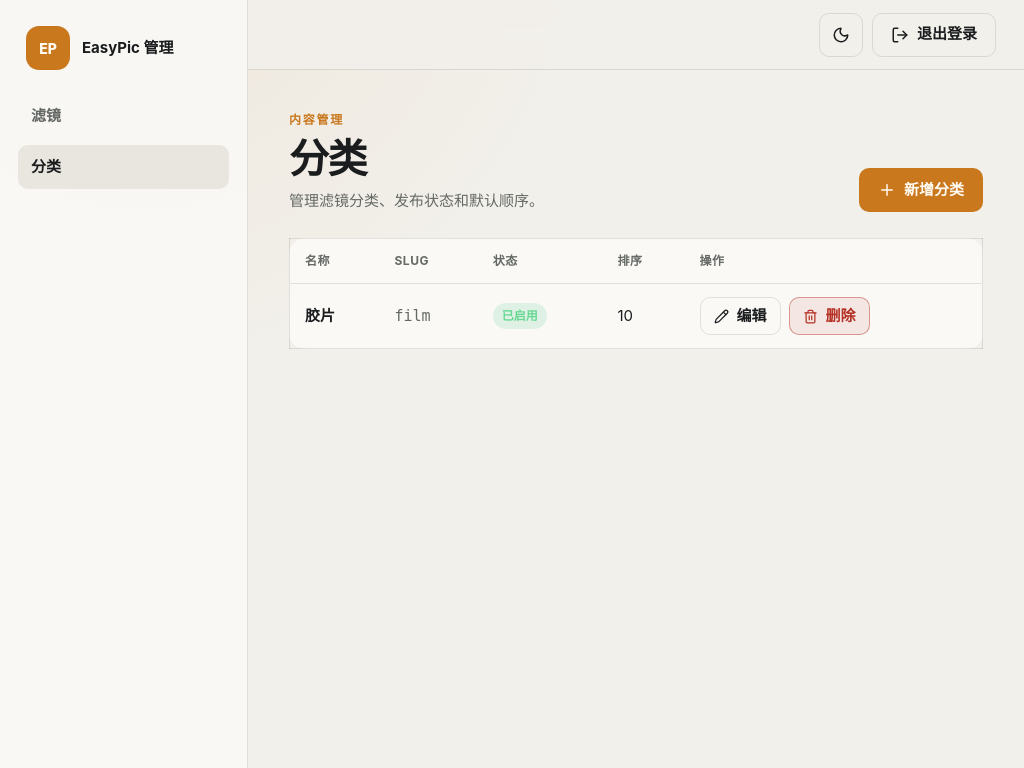
it: category deletion › keeps the named confirmation open on CATEGORY_IN_USE and explains remediation
The image size is (1024, 768).
Click the button with aria-label "删除胶片" at [829, 316], box [788,298,870,336]
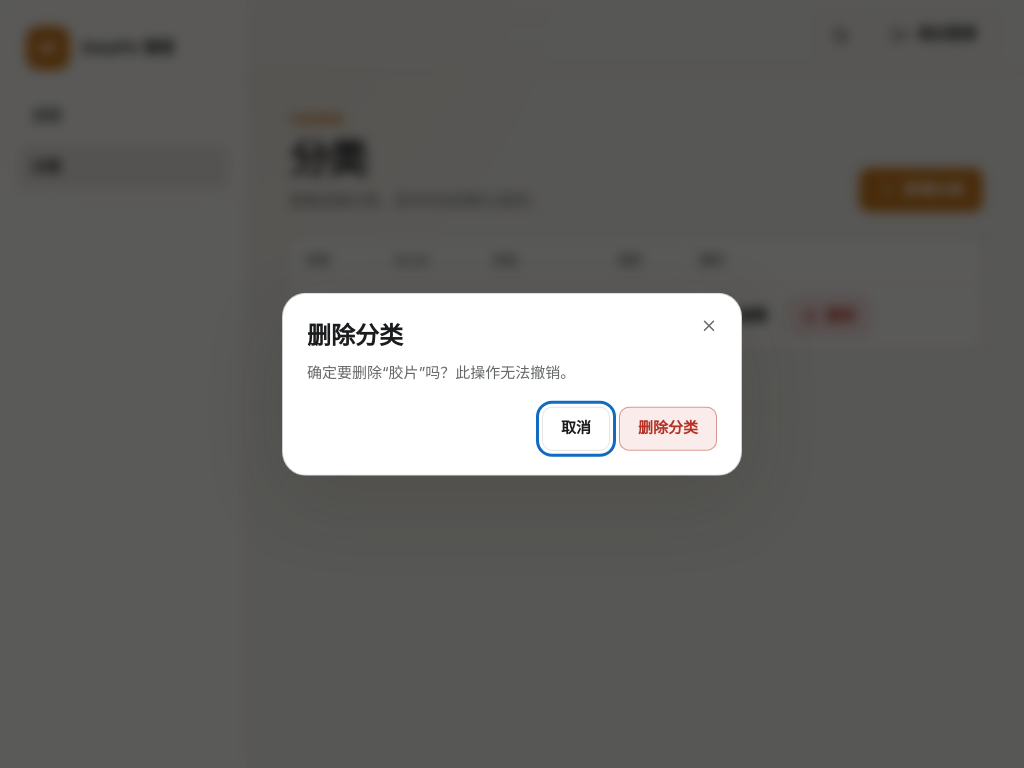
Click the button "删除分类" at [668, 428], box [619,406,717,450]
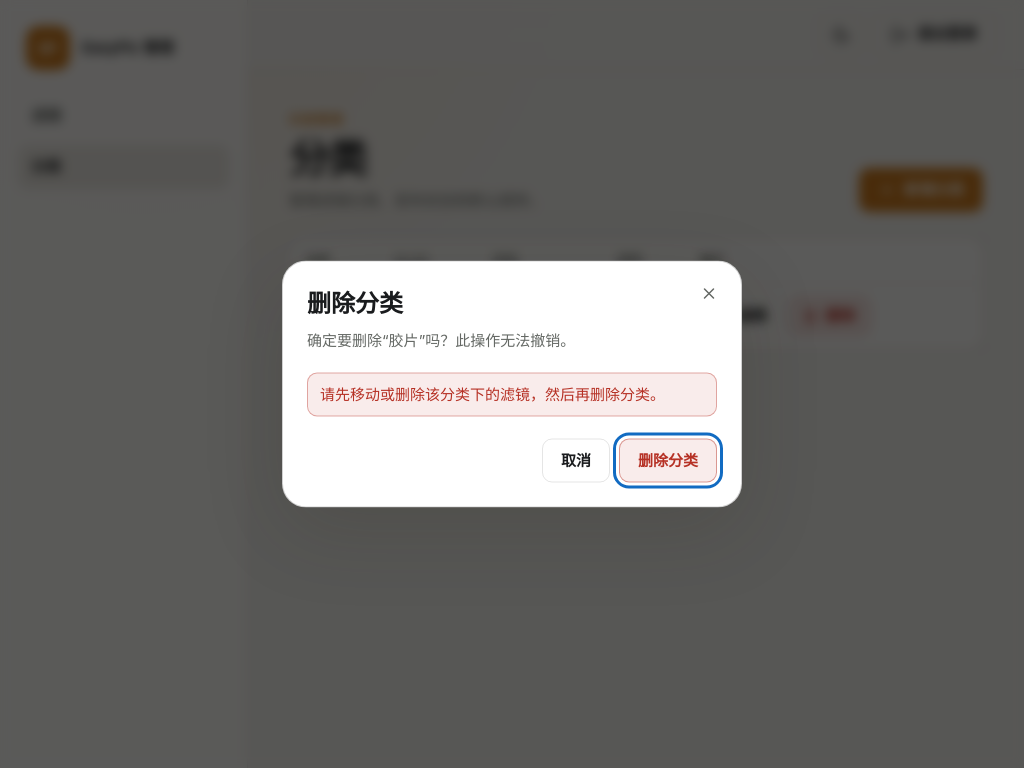
Now the dialog "删除分类" shows "胶片", box [389,330,419,350]
Now the dialog "删除分类" is shown, box [282,260,742,508]
Now the message shows "请先移动或删除该分类下的滤镜", box [320,384,665,403]
